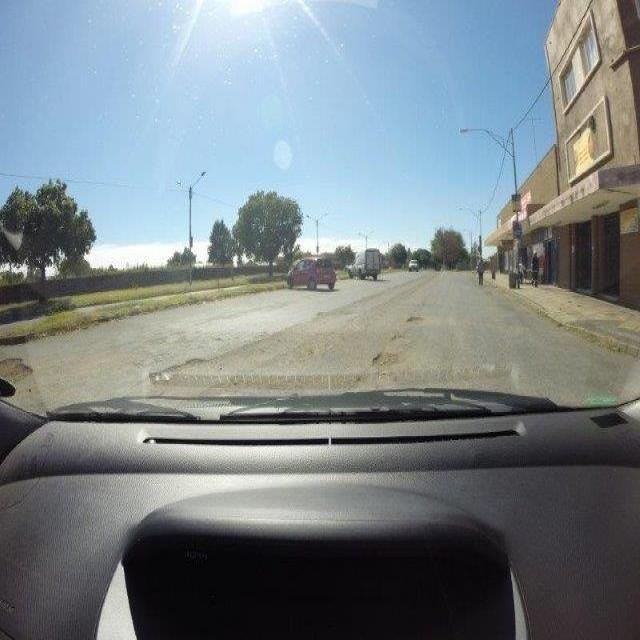lubang: (141, 351, 210, 380), (0, 354, 33, 382), (369, 344, 401, 371), (400, 312, 426, 324), (386, 332, 400, 339)
